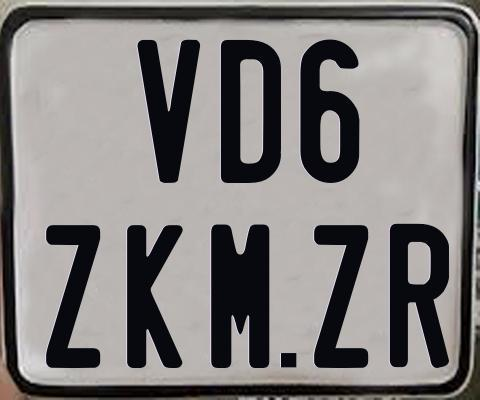6: (299, 36, 360, 180)
D: (220, 39, 281, 188)
K: (126, 224, 188, 368)
M: (209, 223, 271, 372)
R: (389, 224, 453, 373)
V: (135, 39, 200, 185)
Z: (313, 225, 372, 372), (46, 225, 104, 374)
